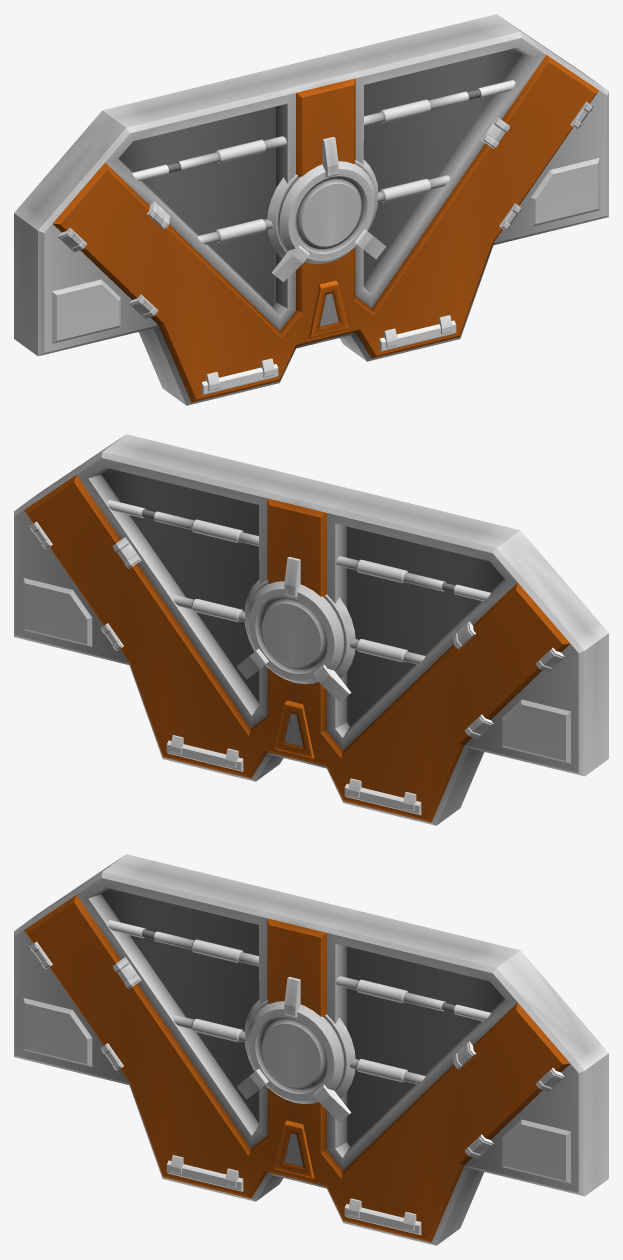
File: doorDouble_top.FBX
3 views of the same model, one above another, from view 1: azimuth 30°, elevation 25°; view 2: azimuth 150°, elevation 25°; view 3: azimuth 330°, elevation 25° (orthographic).
Visible parts, largest first — view 1: doorDouble_top; view 2: doorDouble_top; view 3: doorDouble_top.
Boxes of the visible parts, x1,y1,x2,y2 form: doorDouble_top: (14, 14, 608, 405); doorDouble_top: (14, 434, 608, 825); doorDouble_top: (14, 854, 608, 1245).
Size of the model in its own units: 2.9 by 1.44 by 0.3804.
